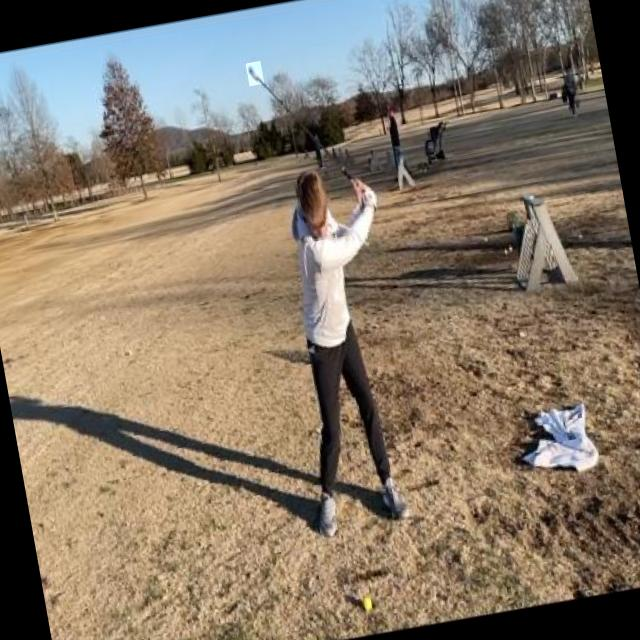club head: (245, 60, 264, 86)
